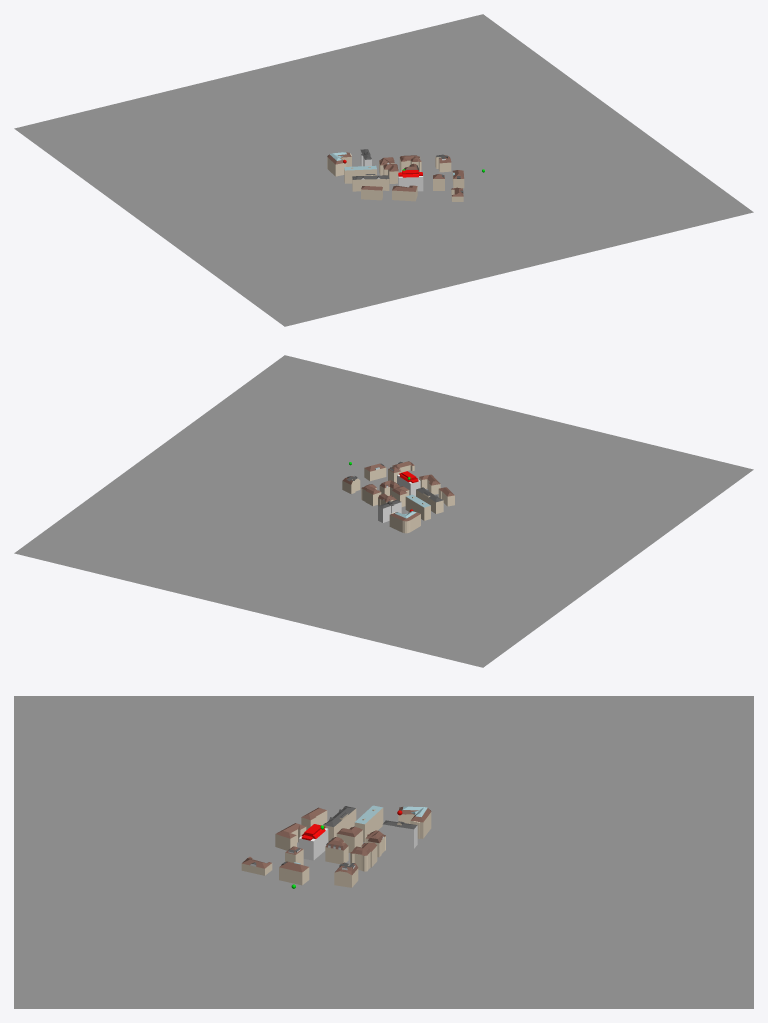
Rendered from 3d_view.glb.
The picture shows the model from 3 angles, top to bottom: view 1: azimuth 30°, elevation 25°; view 2: azimuth 150°, elevation 25°; view 3: azimuth 270°, elevation 25°; orthographic projection. The views are drawn at different scales.
Parts seen in each view (by area): view 1: 0; view 2: 0; view 3: 0.
Part boxes in pixels (<box>): 0: <box>14,14,753,326</box>; 0: <box>14,355,753,667</box>; 0: <box>14,696,753,1008</box>.
Size of the model in its own units: 817 by 37.48 by 817.
